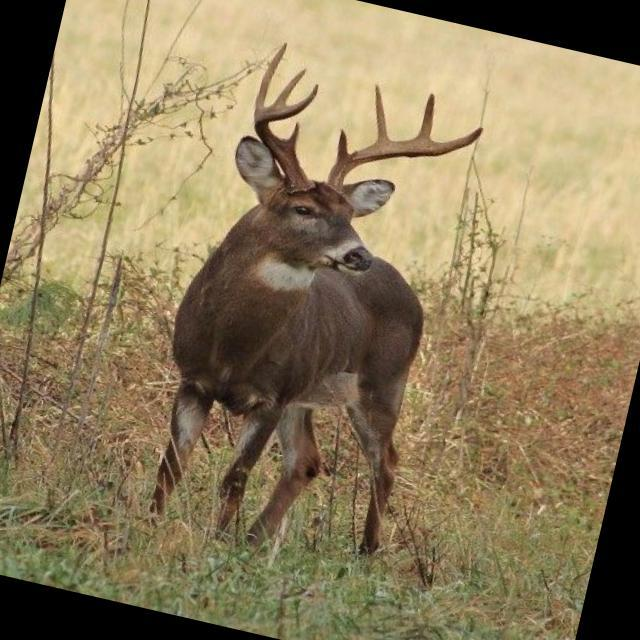L-F: (325, 126, 484, 197)
L-G1: (335, 128, 348, 162)
L-G2: (374, 83, 390, 143)
L-G3: (413, 91, 435, 140)
R-F: (252, 83, 319, 194)
R-G1: (284, 120, 301, 153)
R-G2: (254, 41, 288, 111)
R-G3: (269, 67, 307, 106)
